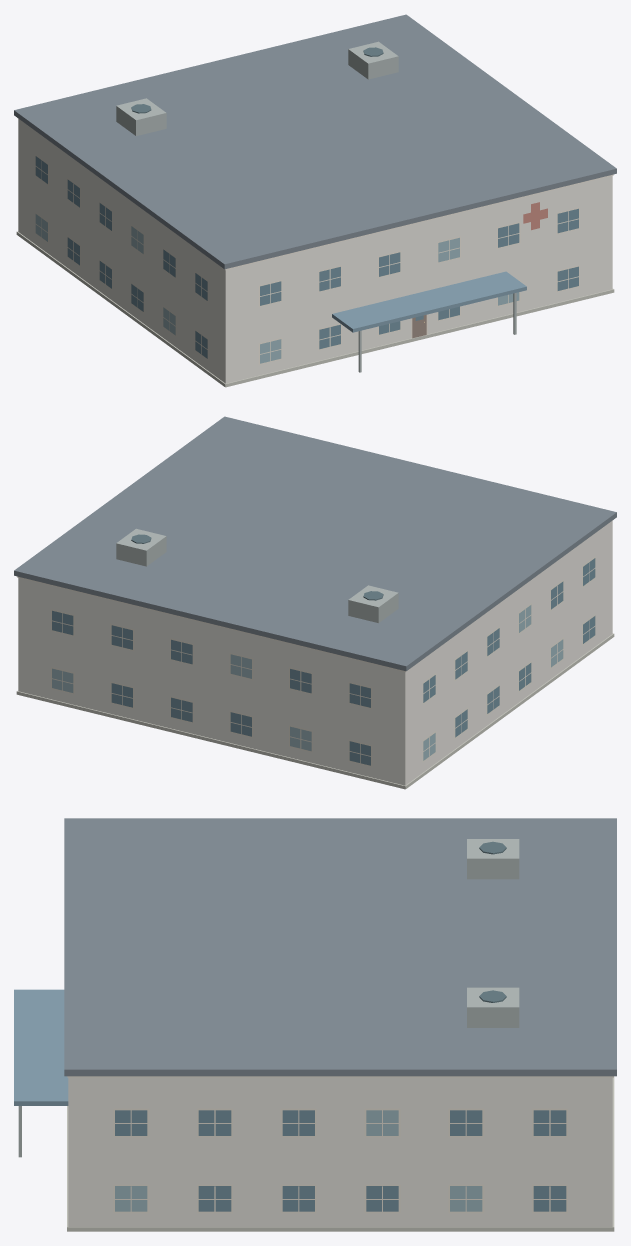
Rendered from civic-medical-clinic.glb.
3 renders of one model, top to bottom at view 1: azimuth 30°, elevation 25°; view 2: azimuth 150°, elevation 25°; view 3: azimuth 270°, elevation 25°, orthographic. The views are drawn at different scales.
Parts seen in each view (by area): view 1: civic-medical-clinic; view 2: civic-medical-clinic; view 3: civic-medical-clinic.
Part boxes in pixels (x1,y1,x2,y2): civic-medical-clinic: [14, 14, 616, 387]; civic-medical-clinic: [14, 416, 616, 789]; civic-medical-clinic: [14, 818, 616, 1231].
Bounding box in the file's own units: 28.4 × 9.77 × 28.8.
